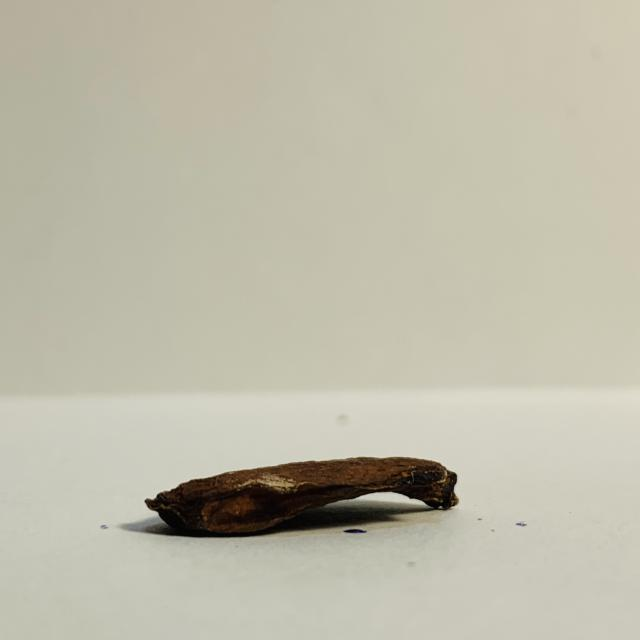Flat_cocoabeans: (84, 418, 508, 588)
